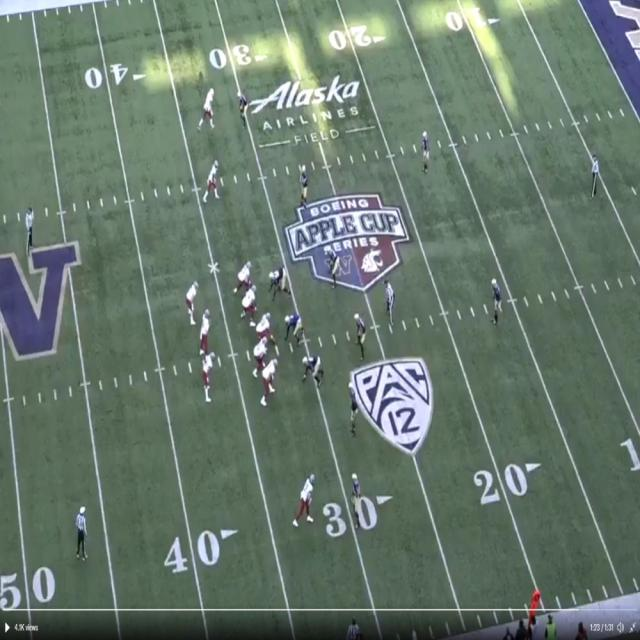center: (258, 309, 276, 343)
db: (351, 473, 365, 514), (494, 277, 504, 321), (241, 91, 251, 120), (421, 129, 428, 170), (303, 165, 310, 199)
lb: (328, 249, 338, 287), (354, 314, 365, 347), (350, 384, 357, 424)
qb: (203, 311, 212, 358)
skill: (294, 474, 315, 528), (199, 88, 215, 130), (206, 160, 221, 203), (202, 355, 212, 403), (185, 281, 196, 324)
